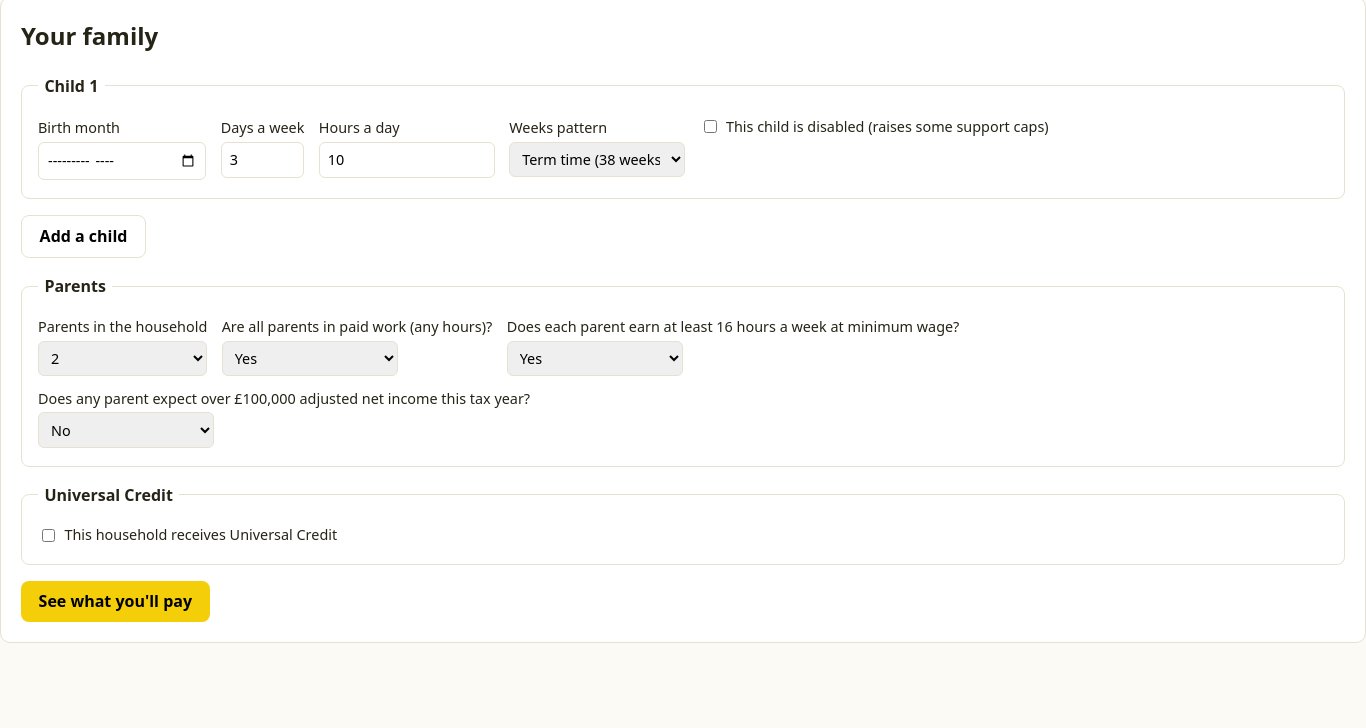
Test: FamilyForm › rejects a claimant without figures, naming the missing fields
This screenshot has width=1366, height=728.
Type "2024-11" into the field labelled "Birth month" at x=122, y=161, box [38,142,206,180]
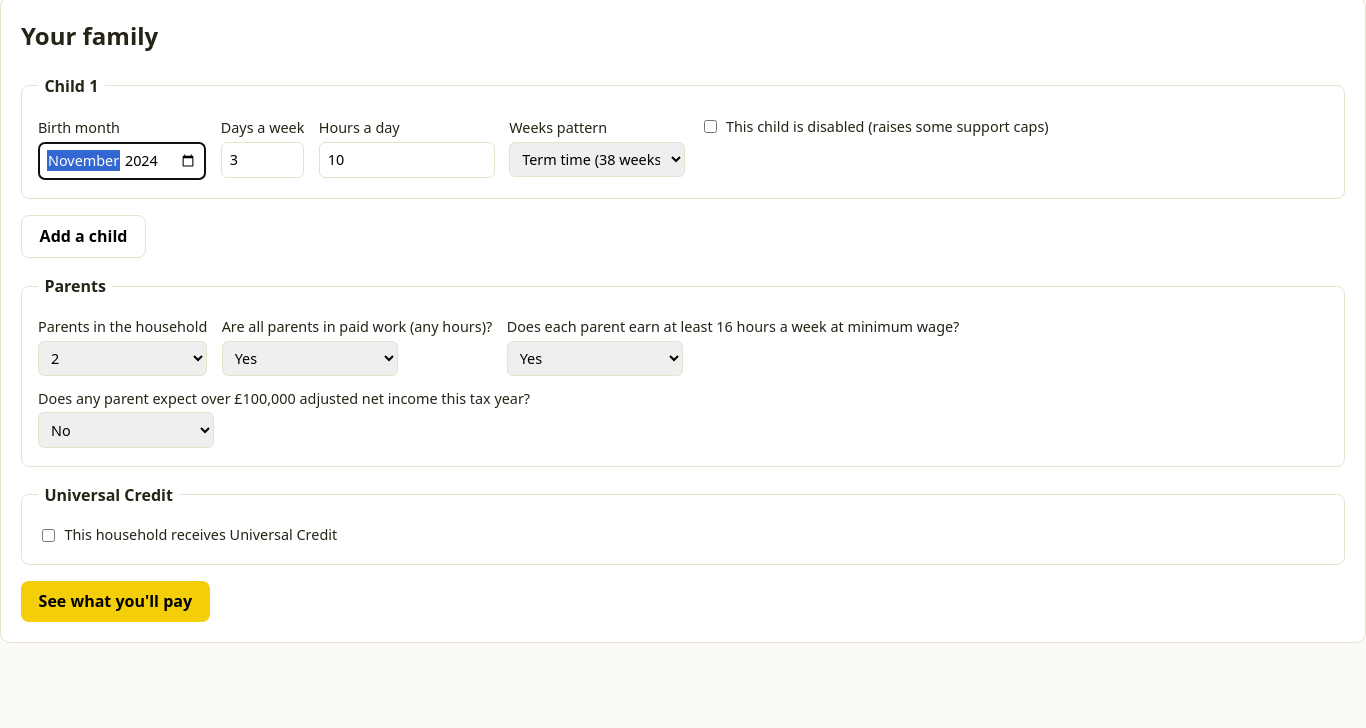
Click the checkbox labelled "This household receives Universal Credit" at x=48, y=535, box [42,529,55,542]
(page scrolled)
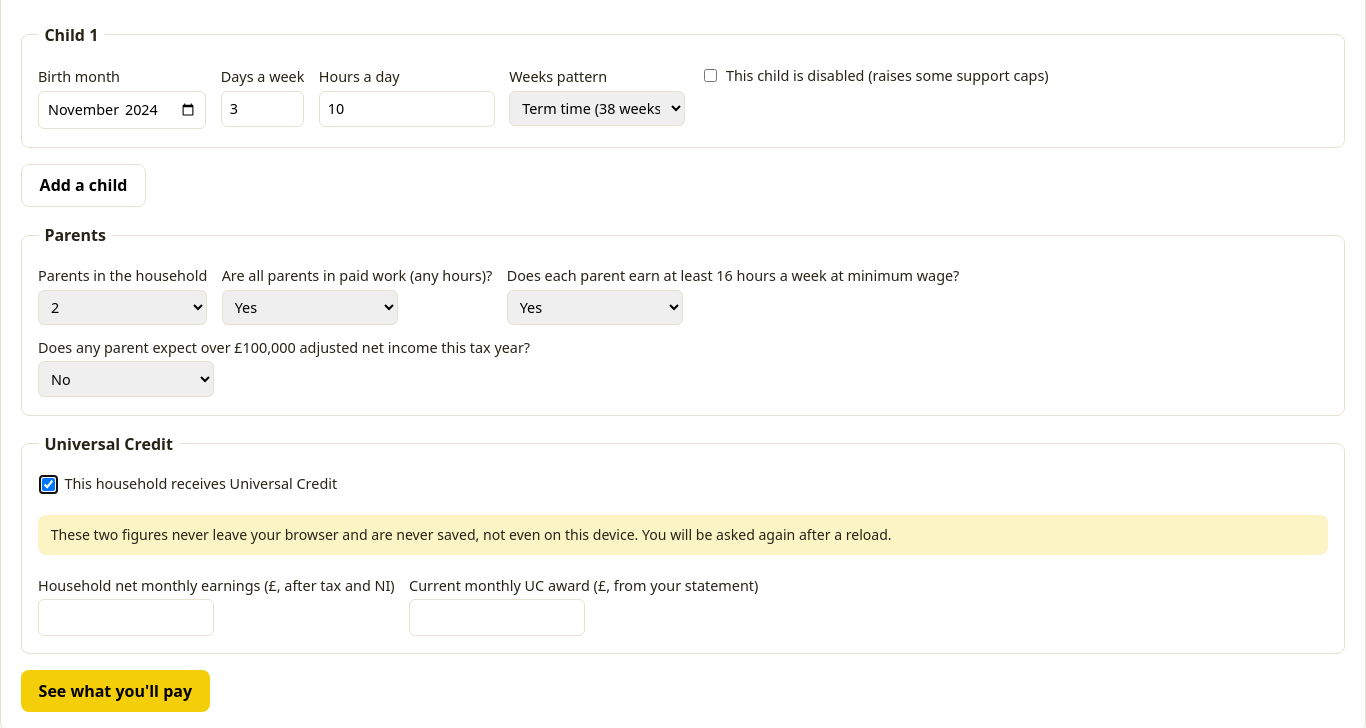
Click the button "See what you'll pay" at x=115, y=691, box [21,670,210,712]
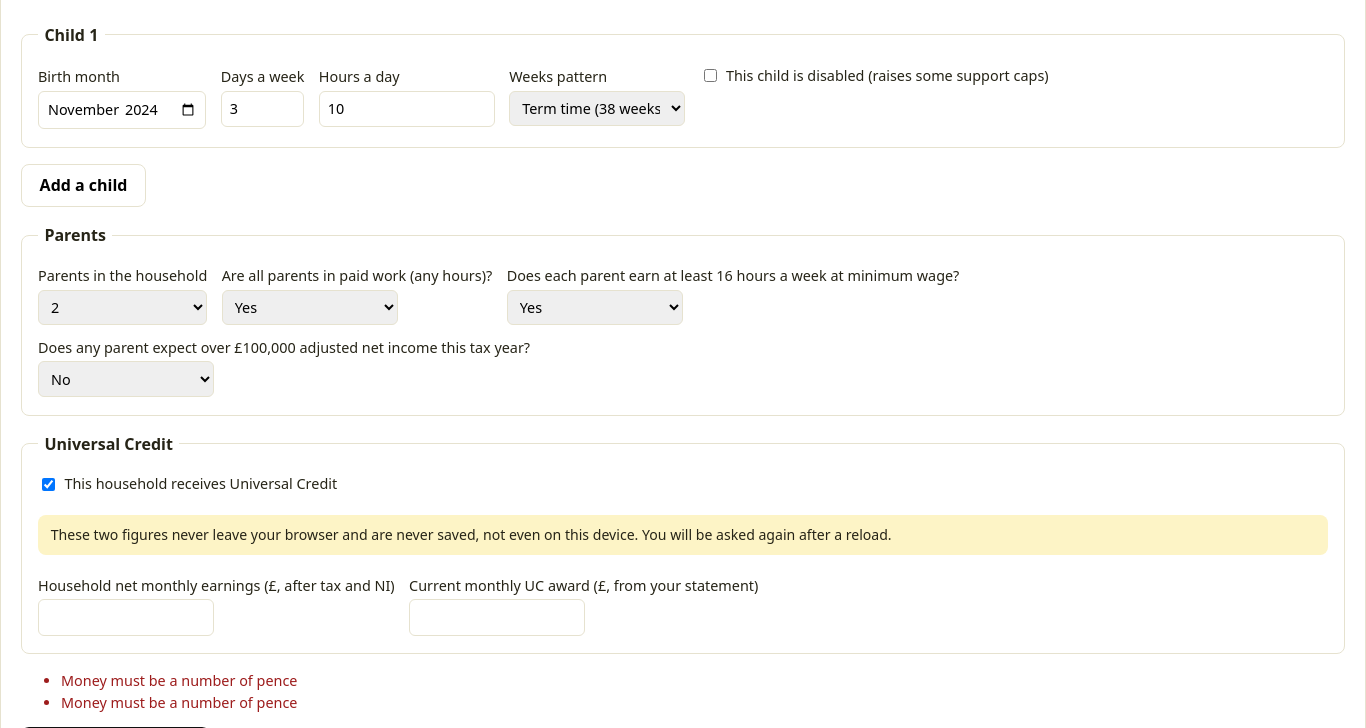
Expected: the 1st list item "Money must be a number of pence" is shown, [61,671,298,690]
